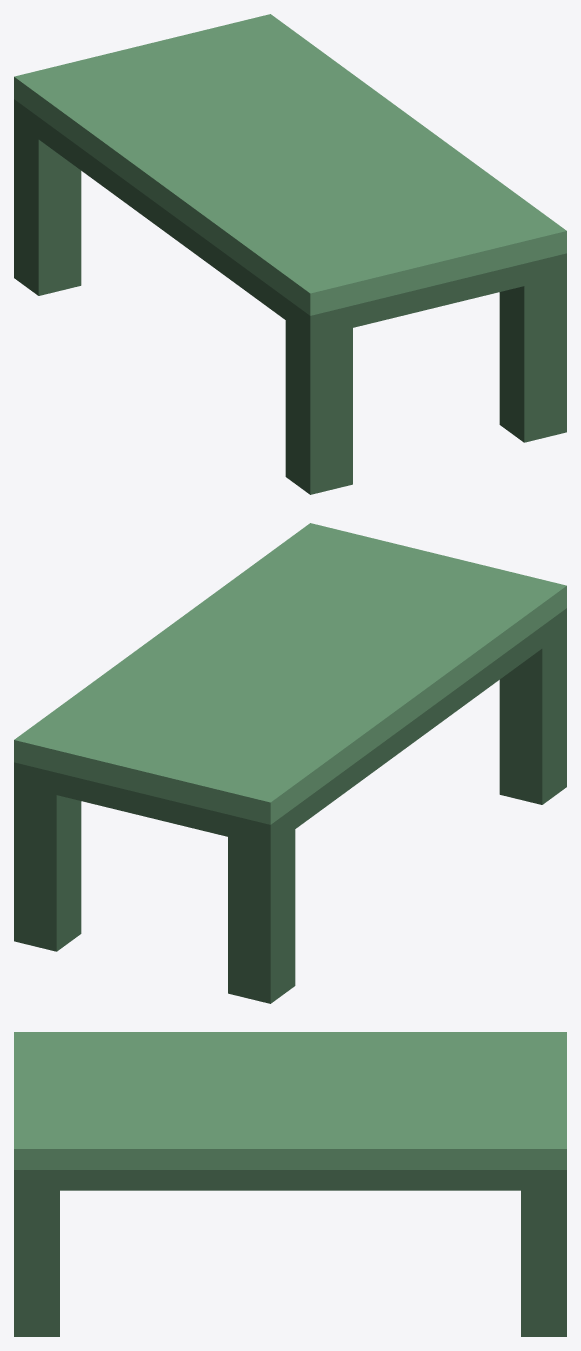
File: mesa_cartas_altas_apuestas_01.glb
The picture shows the model from 3 angles, top to bottom: view 1: azimuth 30°, elevation 25°; view 2: azimuth 150°, elevation 25°; view 3: azimuth 270°, elevation 25°; orthographic projection. The views are drawn at different scales.
Visible parts, largest first — view 1: mesa_cartas_altas_apuestas; view 2: mesa_cartas_altas_apuestas; view 3: mesa_cartas_altas_apuestas.
Boxes of the visible parts, x1,y1,x2,y2 form: mesa_cartas_altas_apuestas: (14,14,566,494); mesa_cartas_altas_apuestas: (14,523,566,1003); mesa_cartas_altas_apuestas: (14,1032,566,1336).
Size of the model in its own units: 1 by 0.75 by 2.
